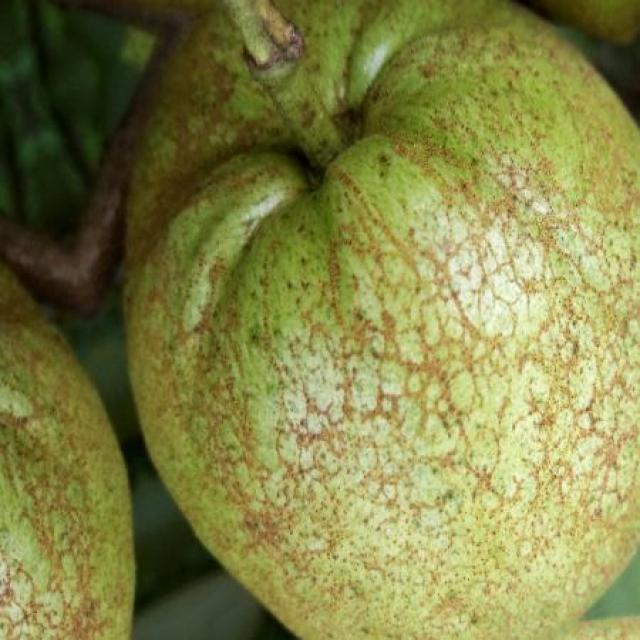Scab: (126, 0, 640, 640), (0, 265, 132, 640)
